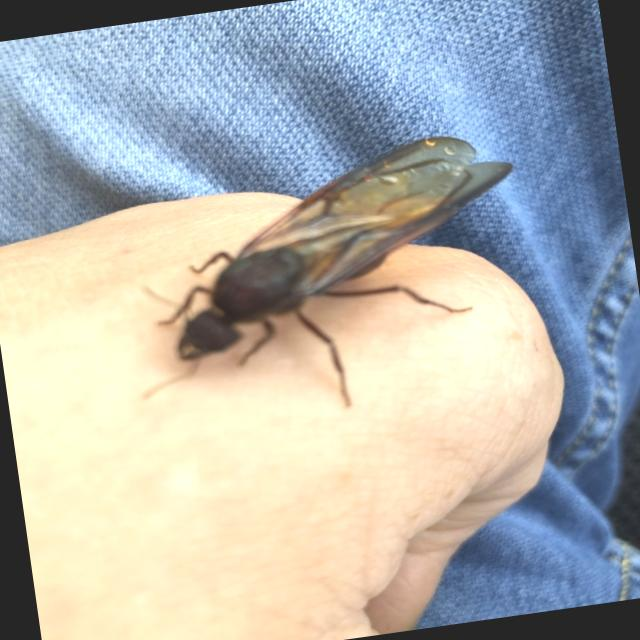Alive-Female-Alate: (110, 126, 544, 434)
